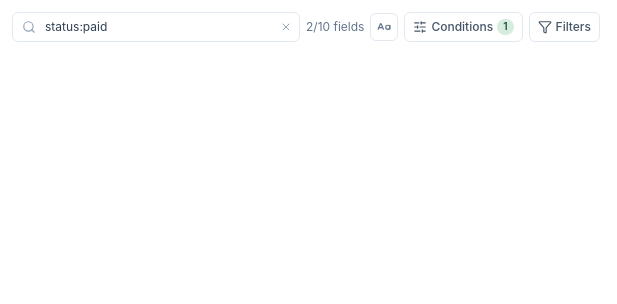
Test case: SearchBar › keeps the combinator locked until there are two conditions
Click the button "Conditions 1" at [464, 27], box [404, 12, 523, 42]
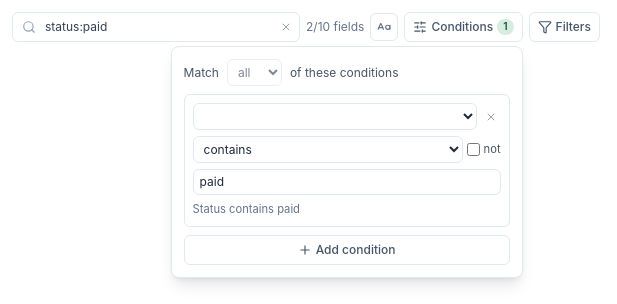
Expected: the dropdown with id "search-combinator" is disabled, [227, 59, 282, 86]
